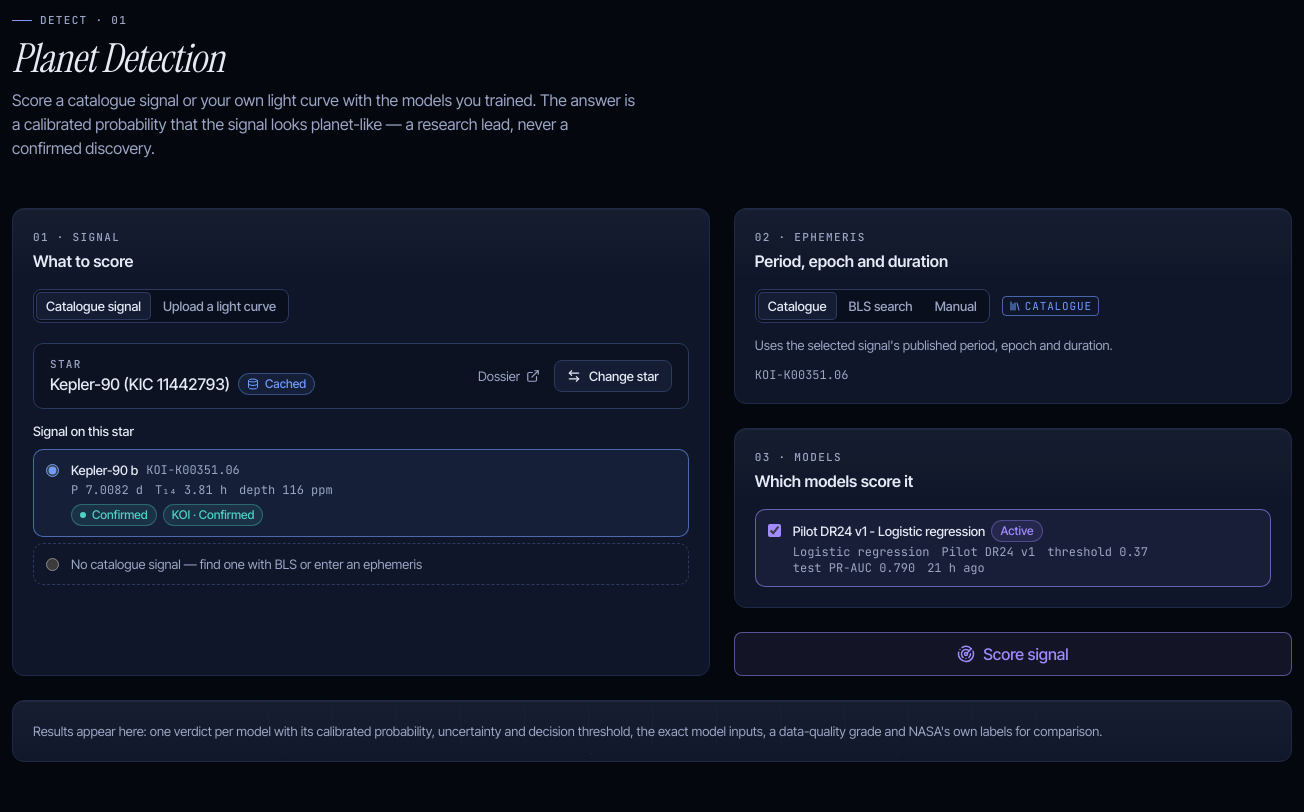
Planet Detection › shows why a signal cannot be scored (400 unscorable_signal)
The width and height of the screenshot is (1304, 812).
What coordinates should you click on to do the following:
click the button "Score signal"
I would click on:
 (1013, 654)
Its box is [734,632,1292,676].
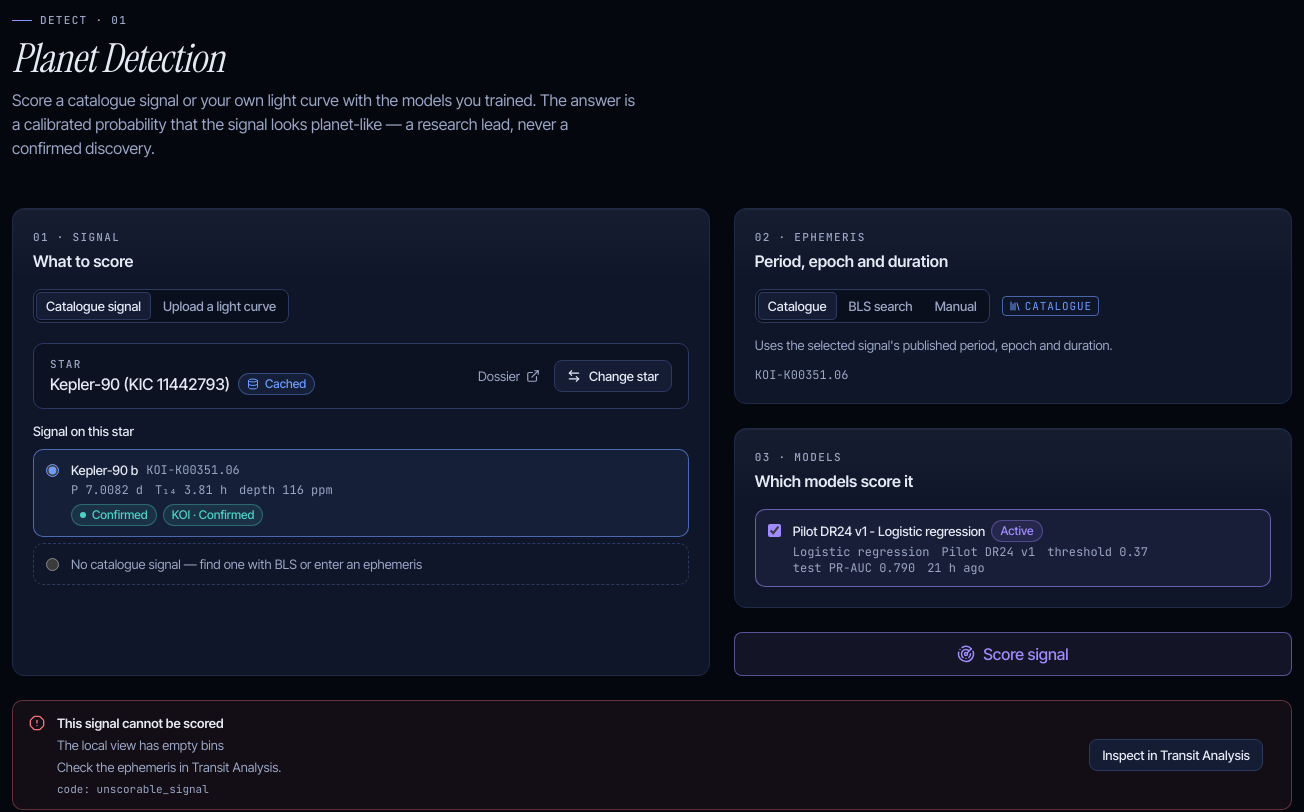
expect the text "This signal cannot be scored" is shown: met, box [57,715,224,731]
expect the text "The local view has empty bins" is shown: met, box [57,737,224,753]
expect the text "Check the ephemeris in Transit Analysis." is shown: met, box [57,759,282,775]
